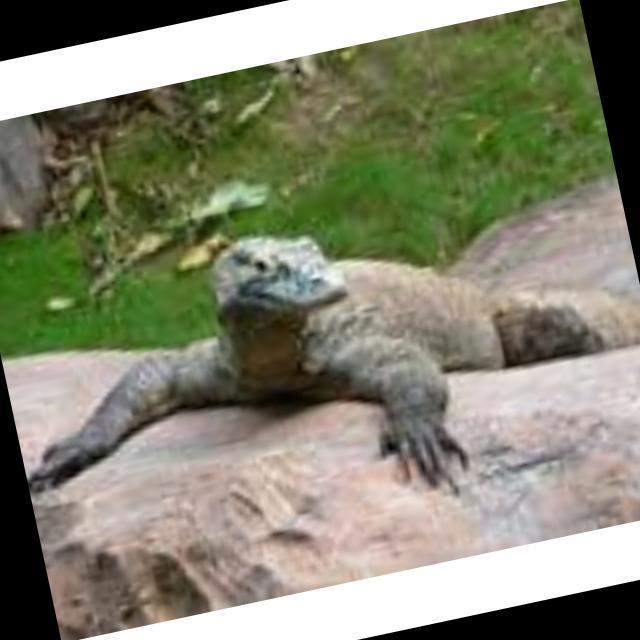KomodoDragon: (0, 150, 640, 574)
